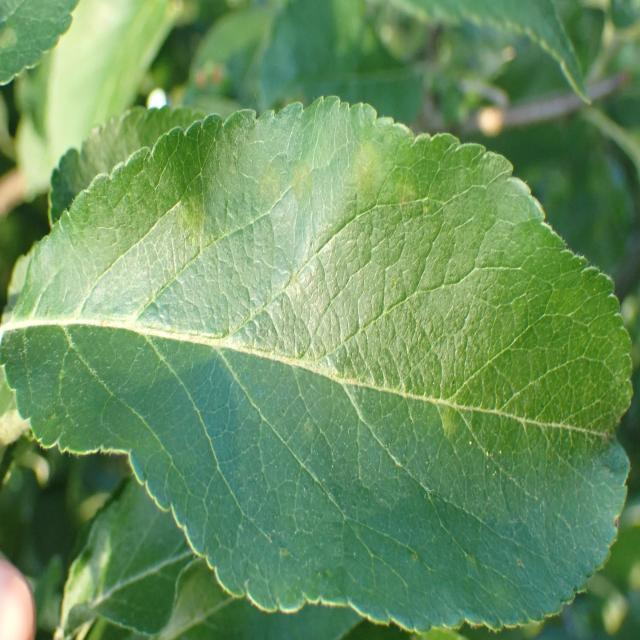scab: (72, 126, 588, 488)
